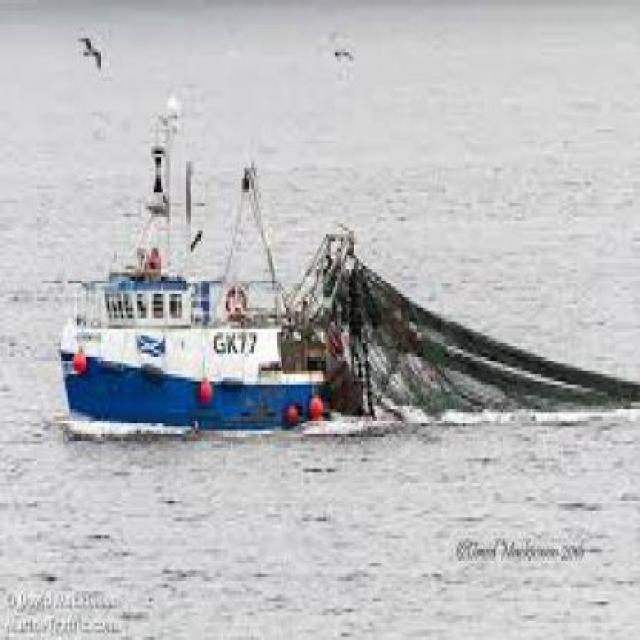fish-b: (43, 85, 372, 449)
